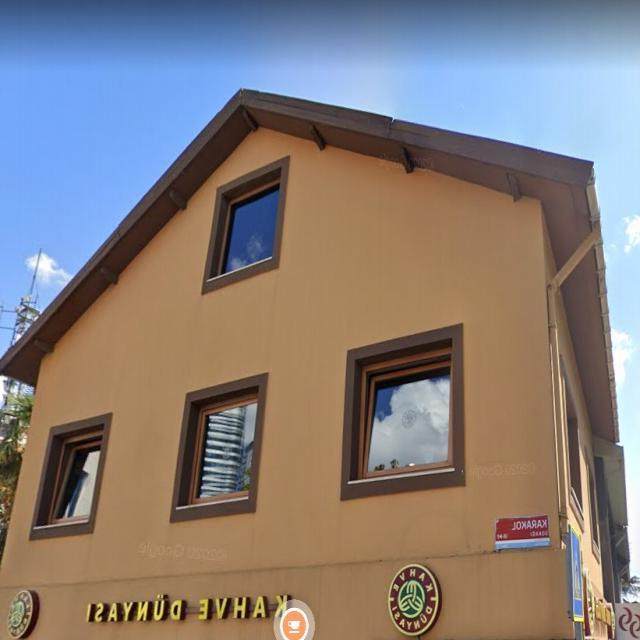Building: (0, 88, 619, 640)
